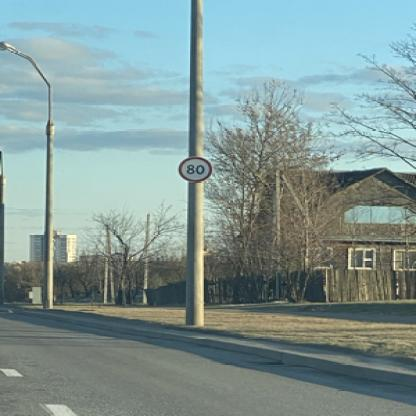Speed Limit 80: (178, 156, 212, 182)
